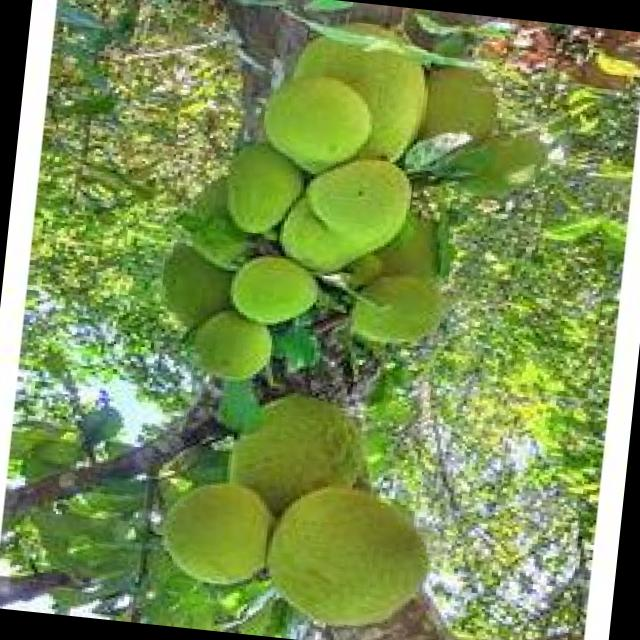Fruit: (238, 0, 469, 210), (234, 453, 461, 640), (143, 457, 294, 612)
